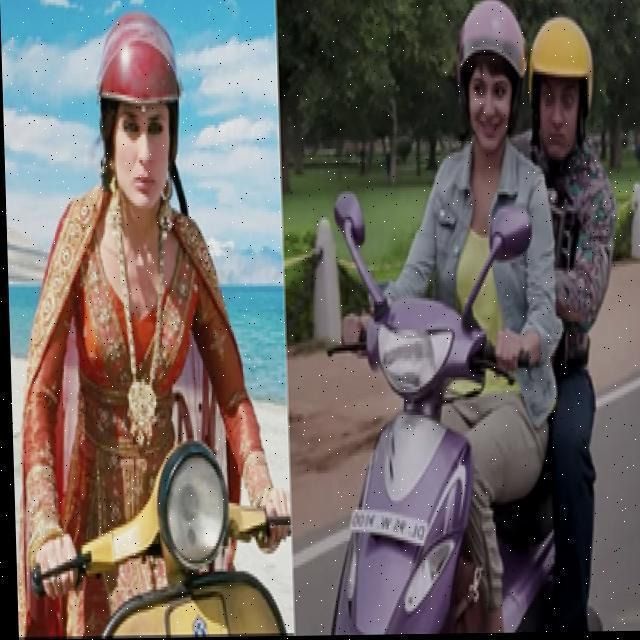Helmet: (88, 9, 190, 212), (450, 0, 535, 157), (526, 10, 598, 164)
